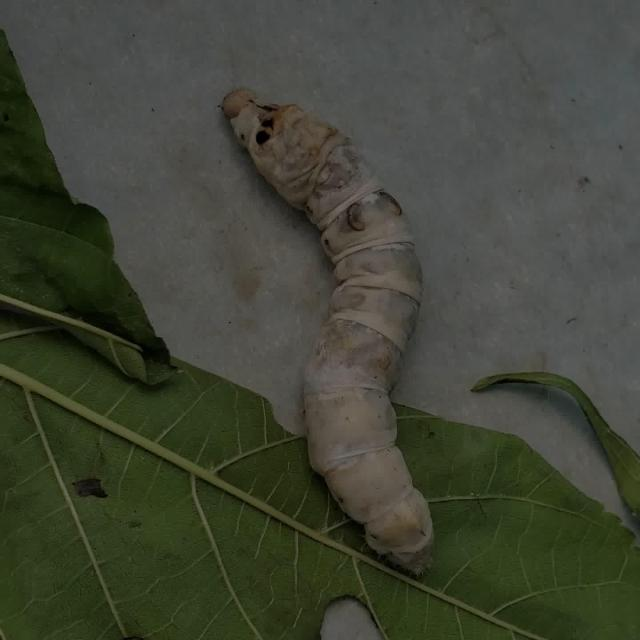Grasserie: (214, 77, 494, 583)
